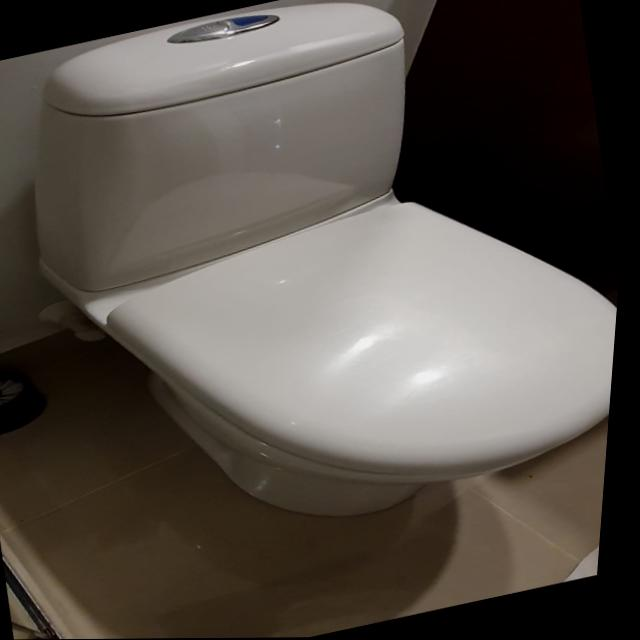toilet: (0, 0, 640, 578)
